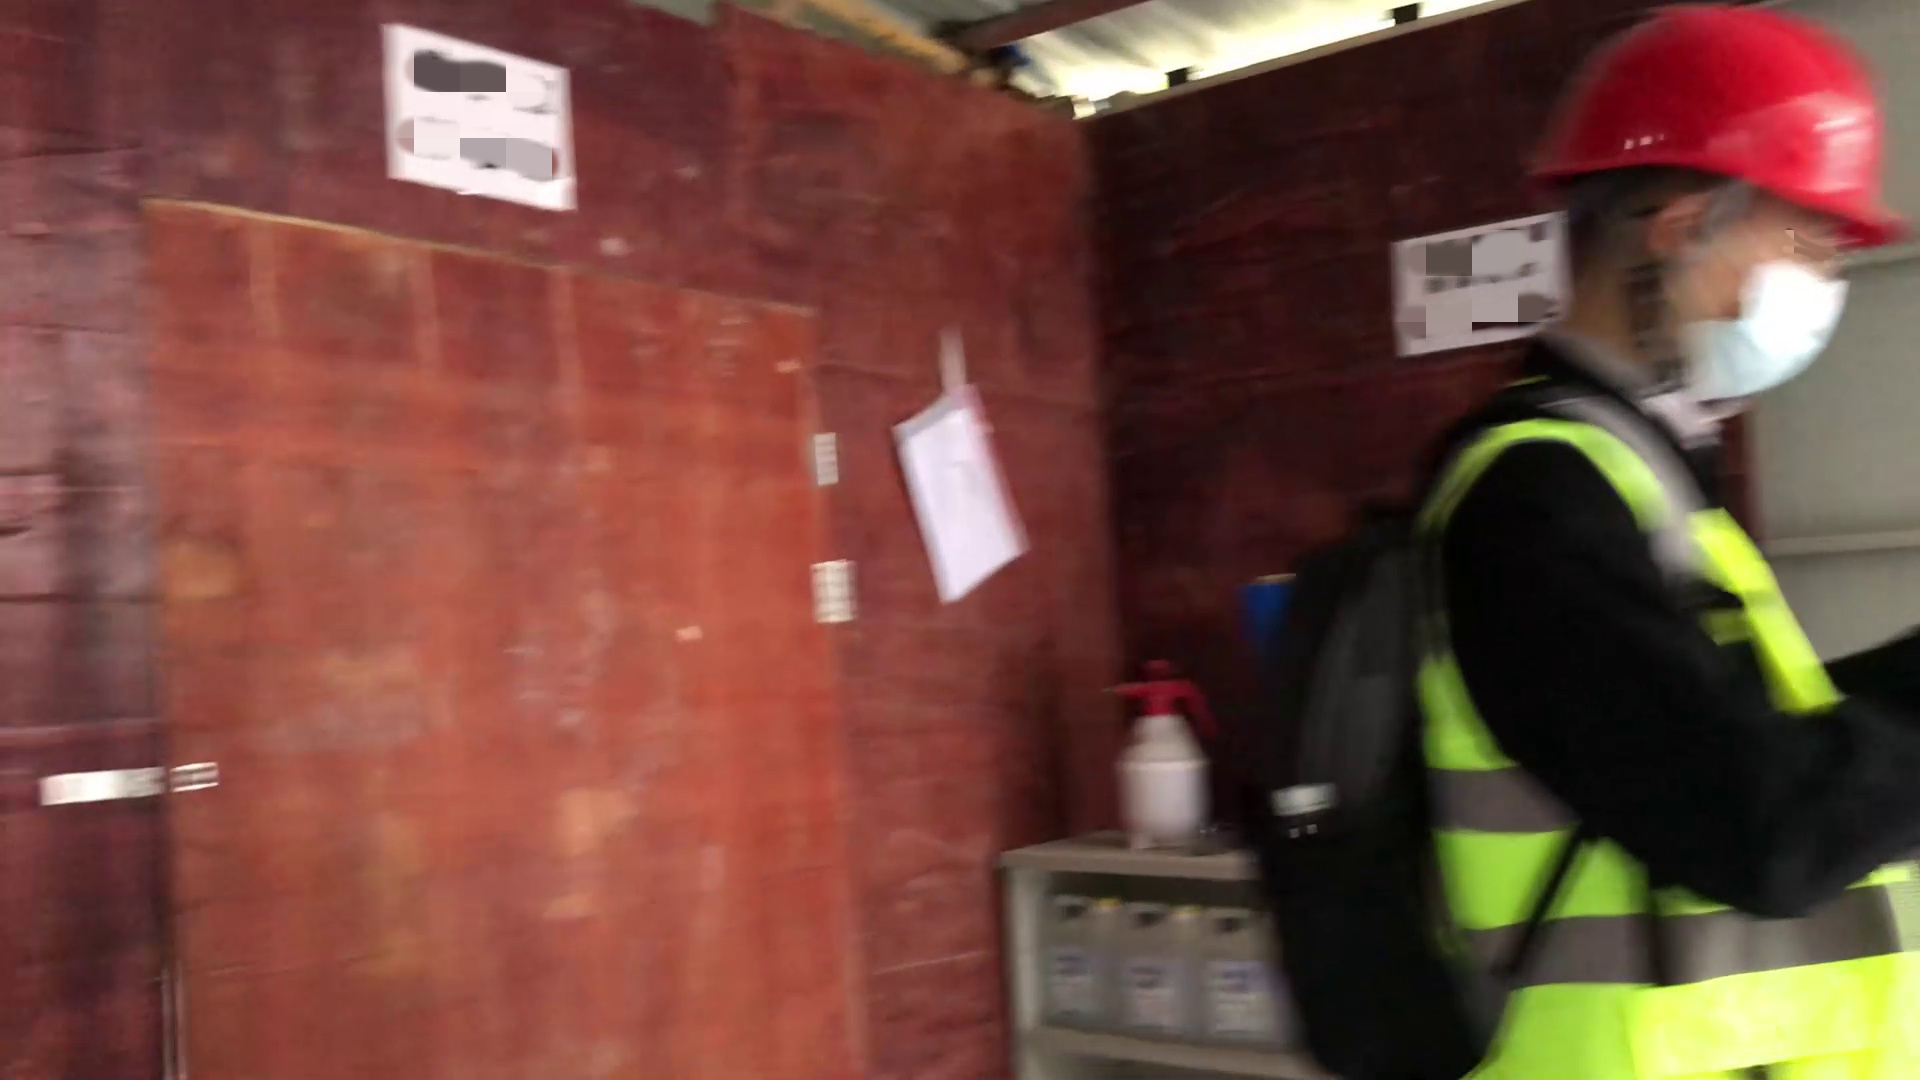helmet: (1514, 16, 1917, 261)
person: (1206, 11, 1920, 1078)
vest: (1406, 422, 1920, 1078)
